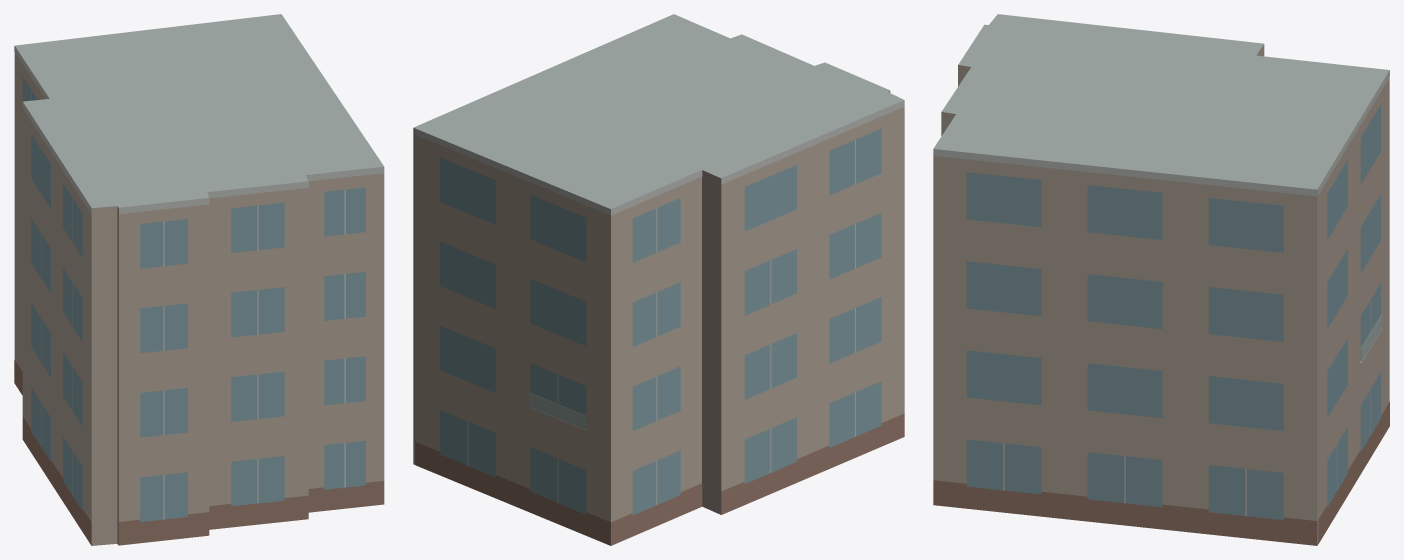
File: survey-upis-33044086.glb
3 views of the same model, side by side, from view 1: azimuth 30°, elevation 25°; view 2: azimuth 150°, elevation 25°; view 3: azimuth 270°, elevation 25° (orthographic). The views are drawn at different scales.
Visible parts, largest first — view 1: survey-upis-33044086.tmp; view 2: survey-upis-33044086.tmp; view 3: survey-upis-33044086.tmp.
Part boxes in pixels (left/top/right/bottom): survey-upis-33044086.tmp: left=14, top=14, right=384, bottom=545; survey-upis-33044086.tmp: left=413, top=14, right=904, bottom=545; survey-upis-33044086.tmp: left=933, top=14, right=1389, bottom=545.
Bounding box in the file's own units: 13.44 × 12.7 × 14.76.
